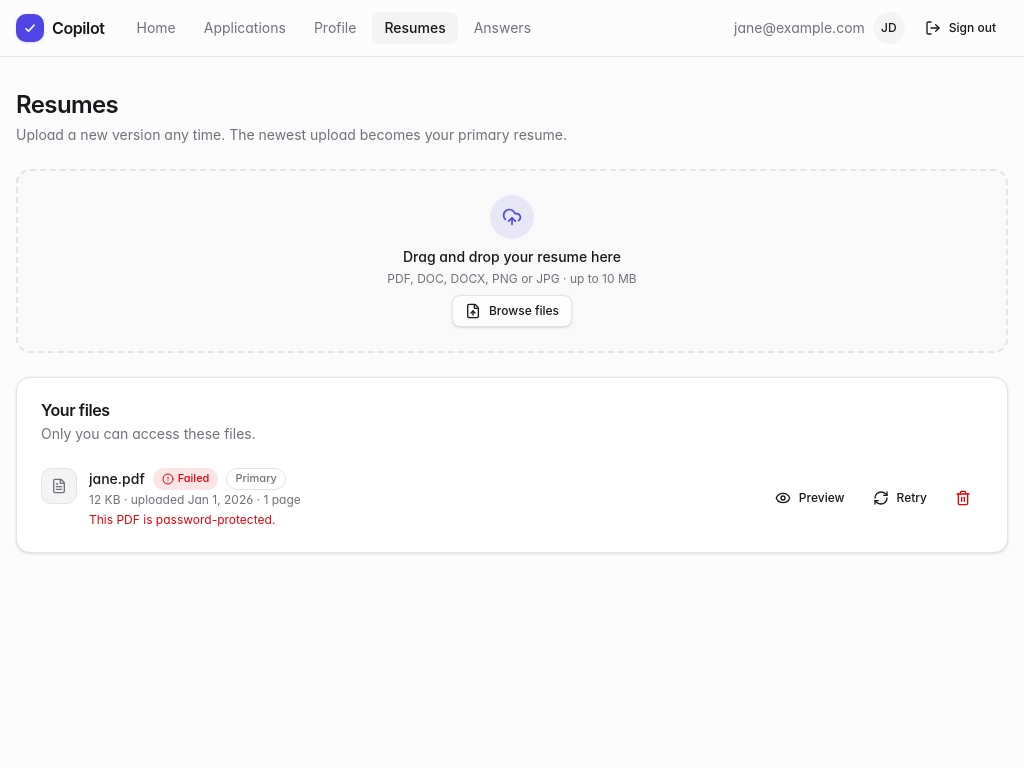
Test: dashboard and resumes › deletes a resume after confirmation
Check: the text "This PDF is password-protected." is shown, box left=89, top=512, right=301, bottom=528
Click the button named "Delete jane.pdf" at (963, 498), box left=943, top=482, right=983, bottom=514
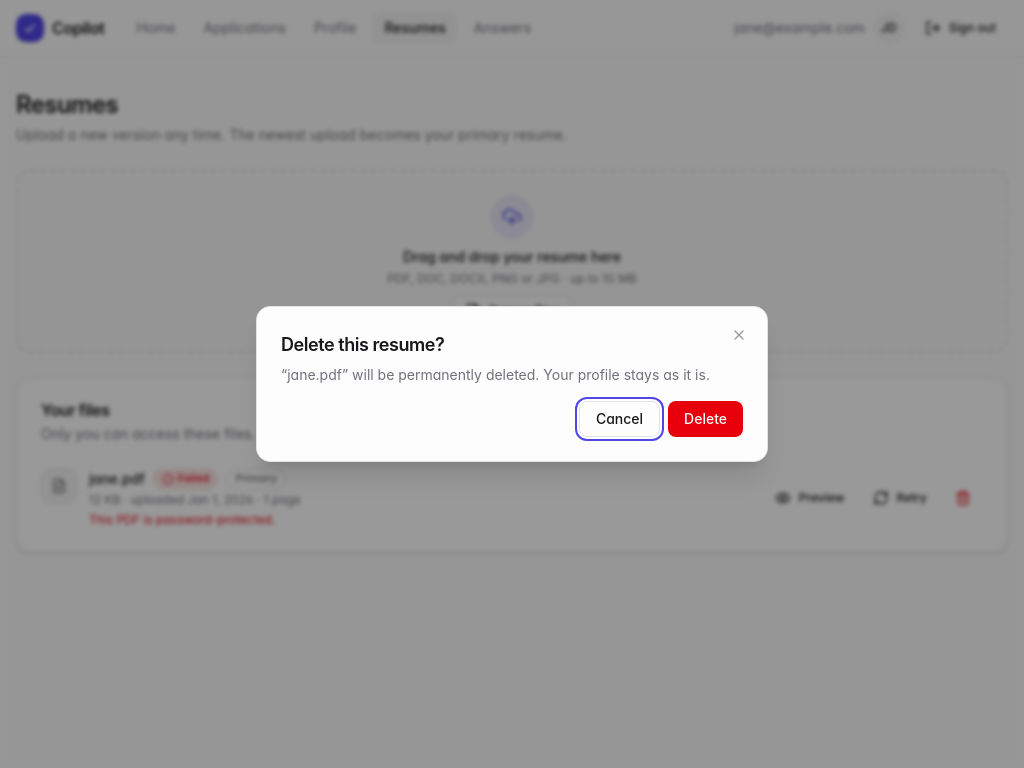
Click the button "Delete" at (706, 419), box left=668, top=401, right=743, bottom=437
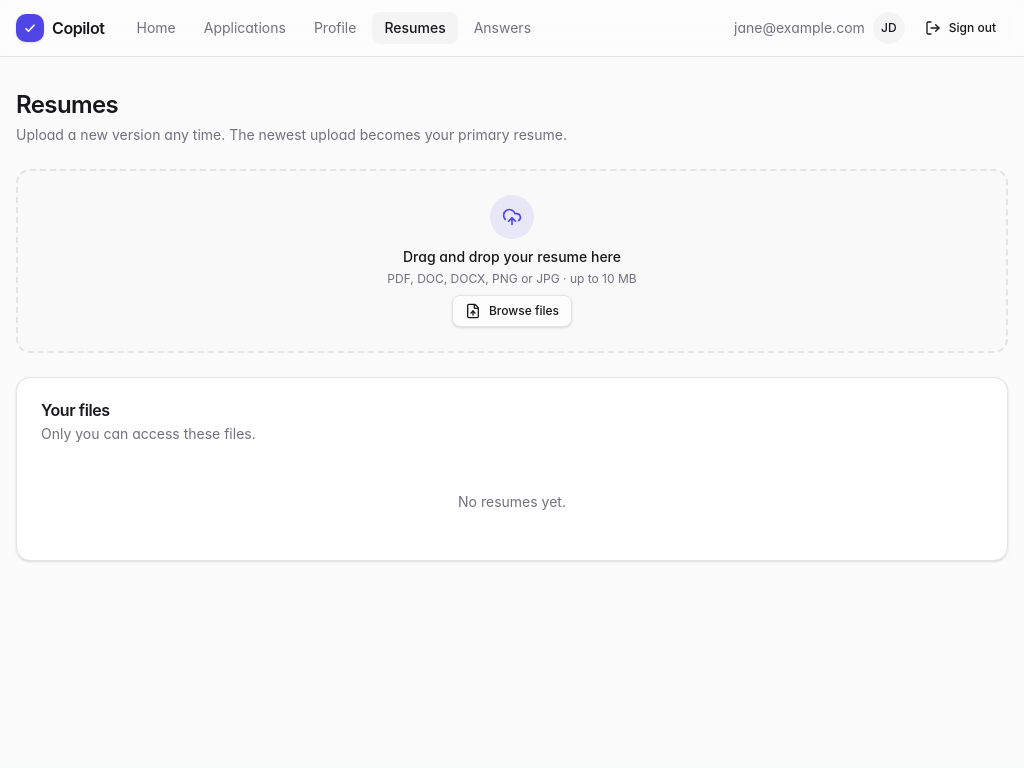
Check: the text "No resumes yet." is shown, box left=458, top=493, right=566, bottom=510
